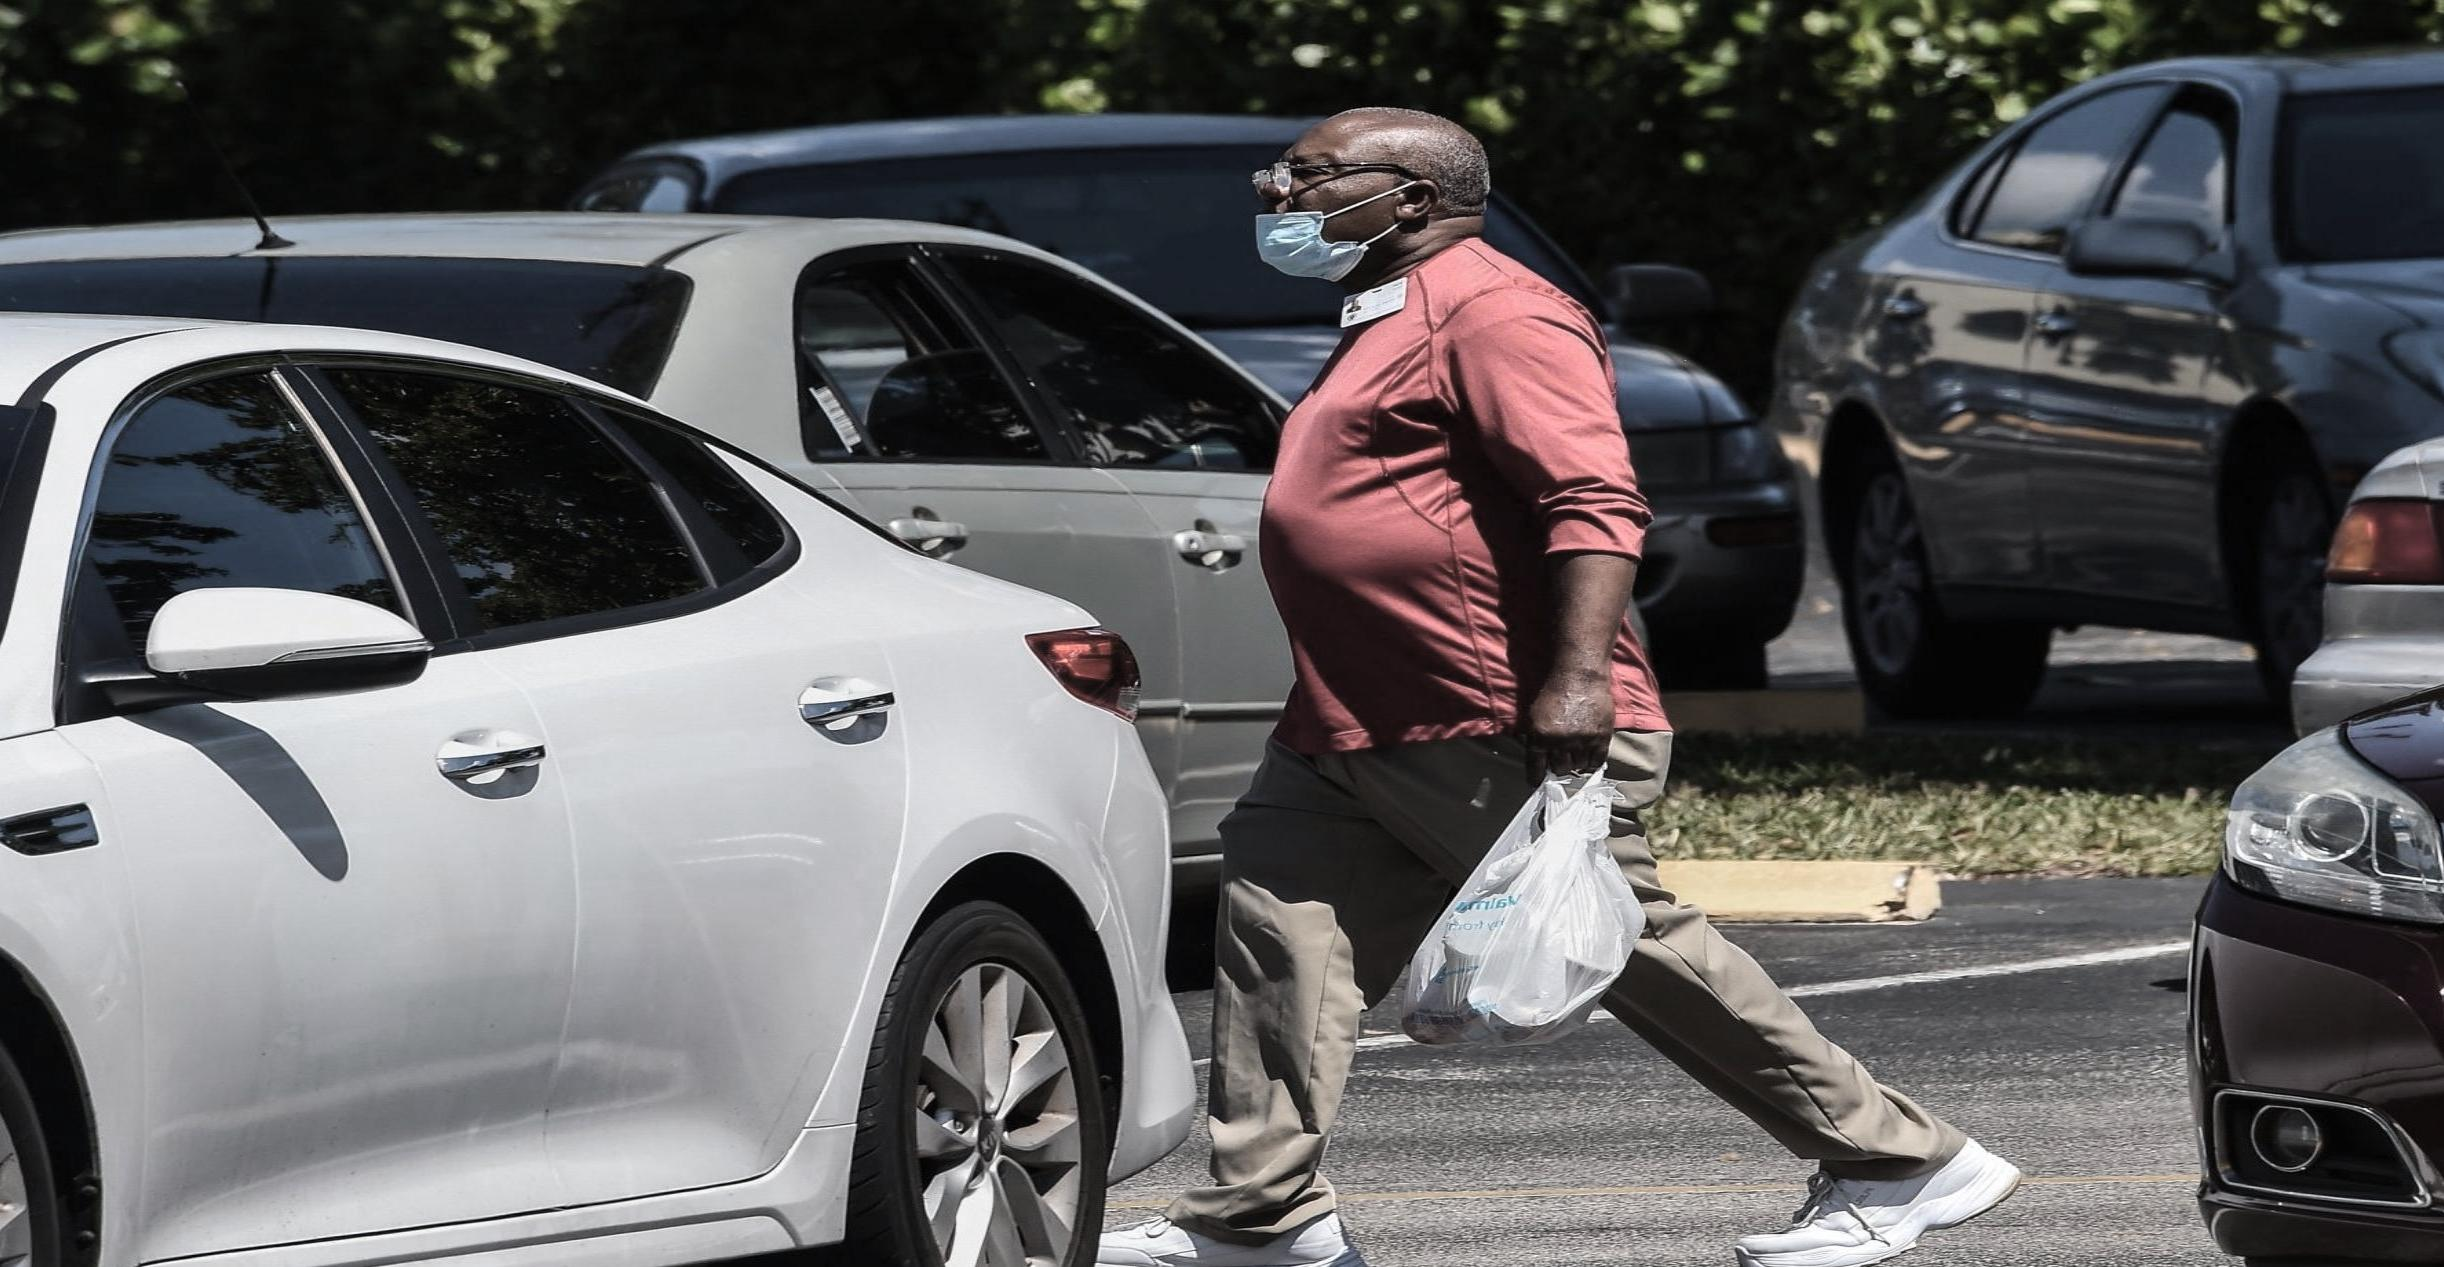mask_weared_incorrect: (1204, 98, 1460, 318), (1239, 106, 1507, 295)
